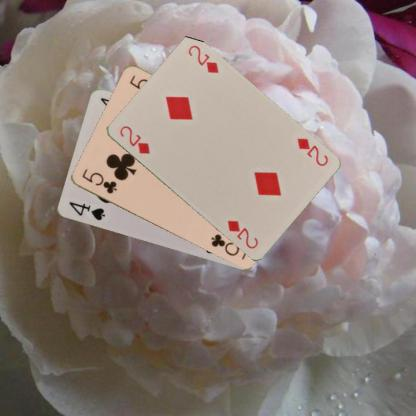2d: (294, 135, 329, 168), (117, 123, 151, 155)
4s: (66, 199, 106, 222)
5c: (78, 166, 118, 195)
